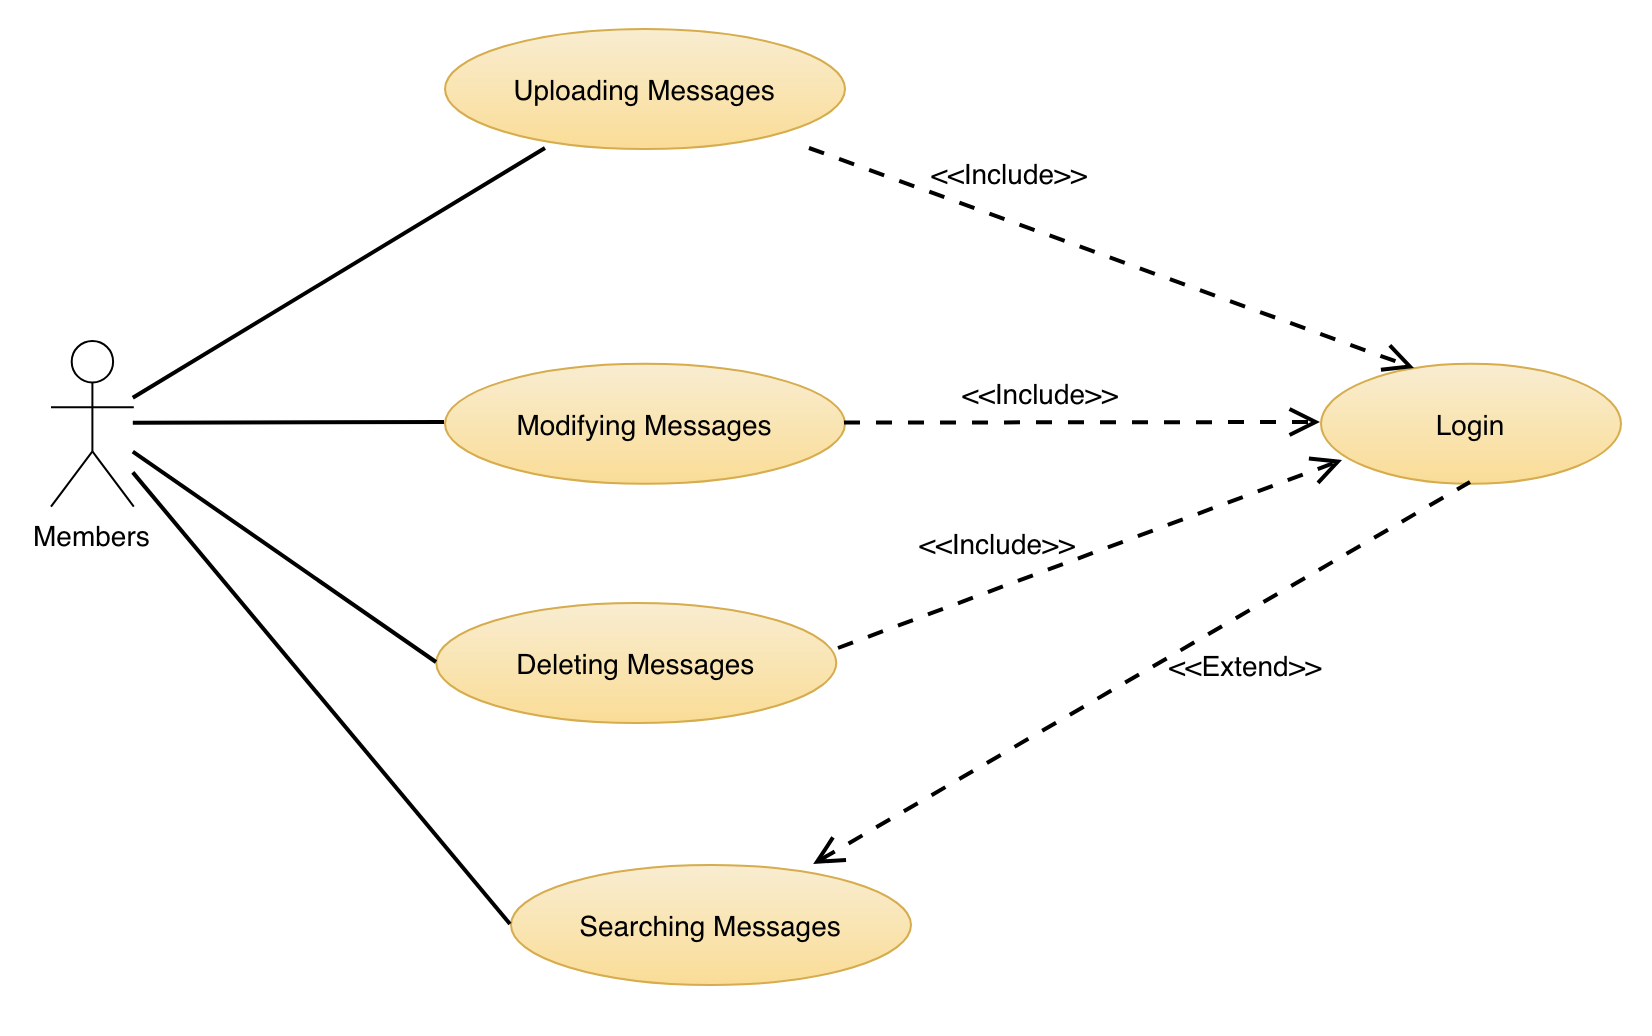actor: (39, 338, 138, 508)
association: (810, 486, 1463, 868), (128, 470, 508, 925), (808, 144, 1417, 374), (135, 144, 545, 397), (838, 456, 1345, 650), (134, 444, 436, 666), (850, 401, 1320, 443), (132, 401, 443, 443)
text: (491, 642, 772, 690), (508, 406, 795, 449), (571, 901, 849, 944), (511, 68, 785, 109), (1169, 647, 1325, 692), (912, 518, 1080, 559), (957, 372, 1117, 411), (927, 153, 1086, 190), (20, 518, 159, 560), (1419, 405, 1514, 448)
use_case: (511, 861, 914, 989), (439, 26, 847, 152), (442, 362, 843, 488), (436, 598, 836, 724), (1319, 360, 1625, 487)
